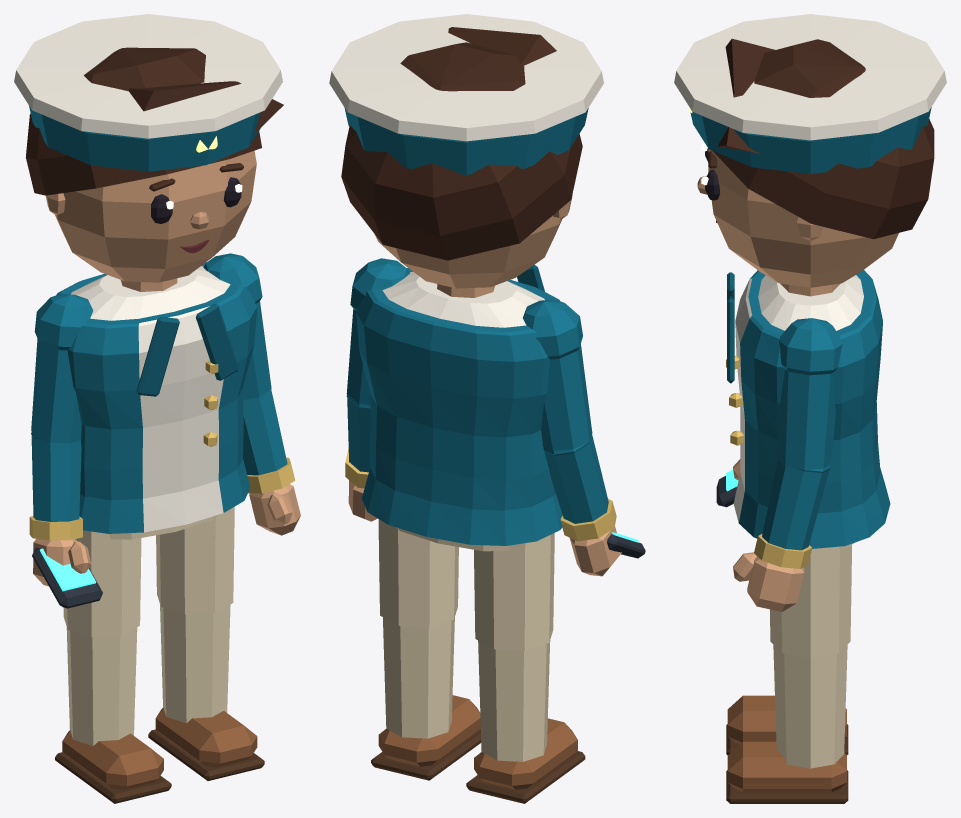
Rendered from pel-n1.glb.
The picture shows the model from 3 angles, left to right: view 1: azimuth 30°, elevation 25°; view 2: azimuth 150°, elevation 25°; view 3: azimuth 270°, elevation 25°; orthographic projection. The views are drawn at different scales.
Visible parts, largest first — view 1: jacke, kopfbedeckung, kopf, bein_l, bein_r, arm_r, haare, arm_l, schuh_l, schuh_r, torso, revers (+5 smaller); view 2: jacke, kopfbedeckung, haare, bein_r, bein_l, arm_r, kopf, torso, arm_l, schuh_r, schuh_l, hand_r (+1 smaller); view 3: kopfbedeckung, jacke, haare, bein_l, arm_l, kopf, schuh_l, torso, hand_l, schuh_r, revers, gesicht (+1 smaller).
Boxes of the visible parts, x1,y1,x2,y2 form: jacke: [56, 262, 257, 533]; kopfbedeckung: [14, 14, 282, 171]; kopf: [45, 150, 256, 282]; bein_l: [156, 506, 234, 723]; bein_r: [63, 530, 141, 745]; arm_r: [29, 294, 93, 540]; haare: [25, 47, 283, 195]; arm_l: [203, 253, 295, 493]; schuh_l: [148, 707, 264, 780]; schuh_r: [55, 730, 171, 803]; torso: [71, 266, 230, 320]; revers: [136, 304, 238, 396]; jacke: [356, 268, 562, 545]; kopfbedeckung: [329, 14, 603, 175]; haare: [341, 27, 582, 260]; bein_r: [474, 533, 554, 761]; bein_l: [378, 519, 458, 738]; arm_r: [523, 299, 616, 541]; kopf: [375, 195, 572, 288]; torso: [382, 272, 544, 327]; arm_l: [345, 258, 409, 488]; schuh_r: [466, 718, 585, 803]; schuh_l: [371, 695, 481, 780]; hand_r: [569, 526, 621, 576]; kopfbedeckung: [674, 14, 946, 173]; jacke: [733, 270, 890, 548]; haare: [713, 38, 934, 239]; bein_l: [770, 545, 851, 768]; arm_l: [754, 318, 842, 568]; kopf: [708, 149, 898, 287]; schuh_l: [726, 741, 848, 803]; torso: [758, 275, 863, 330]; hand_l: [733, 552, 804, 611]; schuh_r: [726, 695, 848, 755]; revers: [727, 272, 734, 383]; gesicht: [697, 142, 719, 222].
Bounding box in the file's own units: 0.00995 × 0.0255 × 0.00884.
